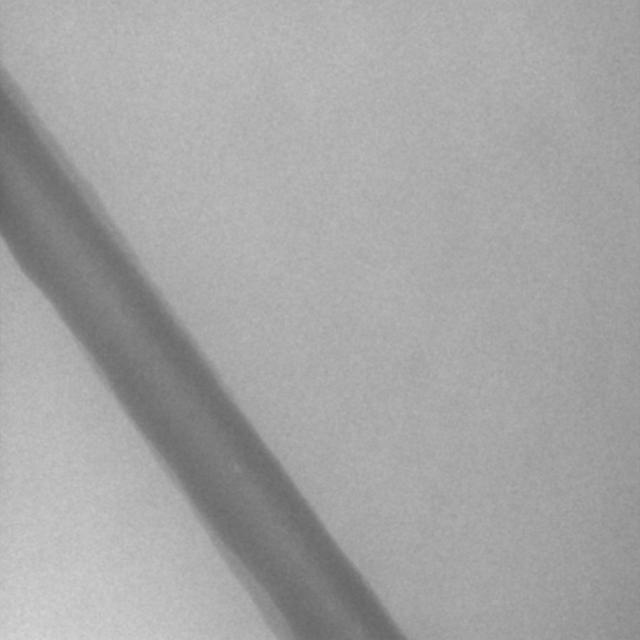air-hole: (233, 464, 241, 479), (356, 621, 362, 640)
